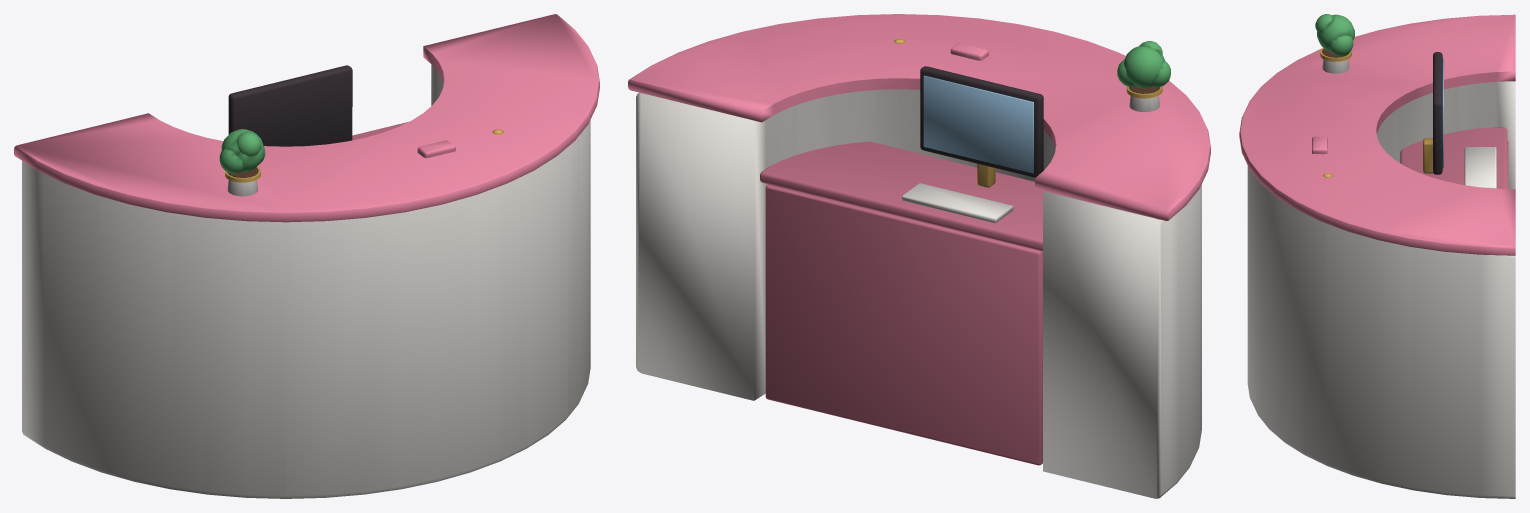
Rendered from reception-desk-curve.glb.
The picture shows the model from 3 angles, left to right: view 1: azimuth 30°, elevation 25°; view 2: azimuth 150°, elevation 25°; view 3: azimuth 270°, elevation 25°; orthographic projection. The views are drawn at different scales.
Visible parts, largest first — view 1: reception-desk-curve; view 2: reception-desk-curve; view 3: reception-desk-curve.
Part boxes in pixels (x1,y1,x2,y2): reception-desk-curve: (14, 14, 599, 498); reception-desk-curve: (628, 14, 1210, 498); reception-desk-curve: (1239, 14, 1515, 498).
Size of the model in its own units: 2.06 by 1.28 by 1.03.
